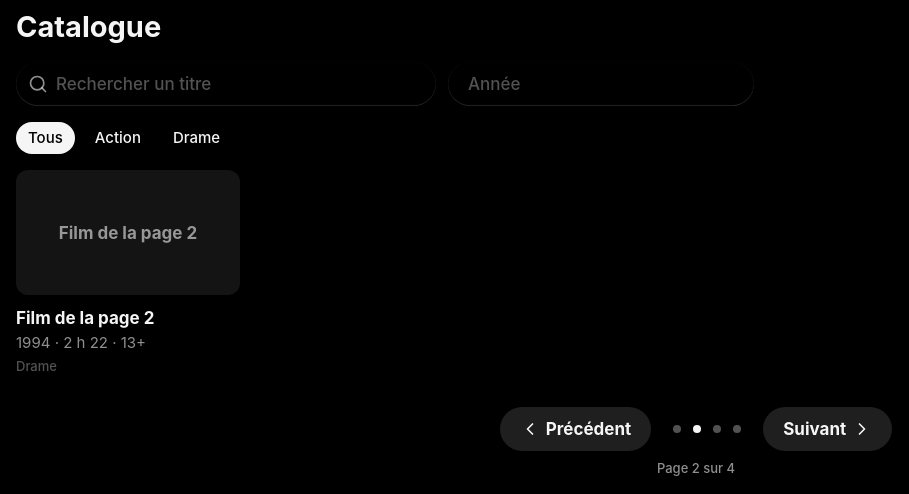
Test case: page du catalogue (spec 08) › passe à la page suivante puis revient à la précédente
Check: the text "Page 2 sur 4" is shown, box top-left (657, 459), bottom-right (735, 477)
Click the link "Suivant" at (828, 429), box top-left (763, 407), bottom-right (892, 451)
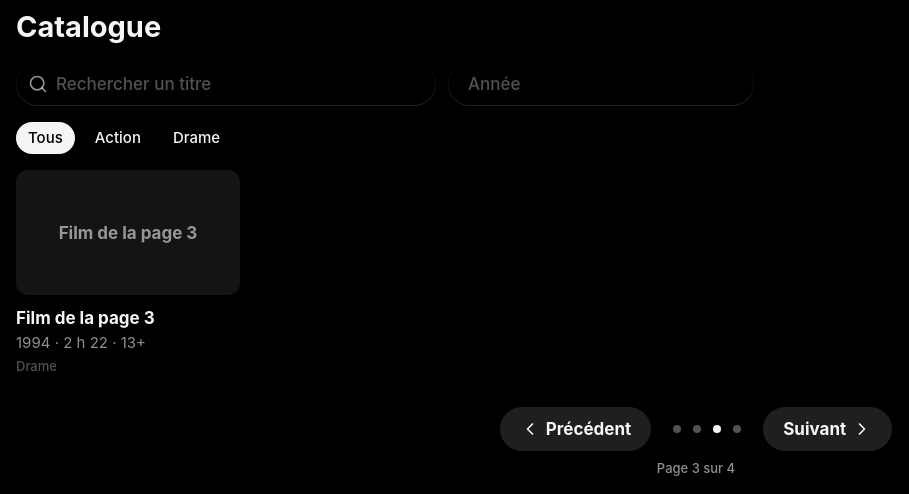
Check: the heading "Film de la page 3" is shown, box top-left (16, 308), bottom-right (155, 328)
Check: the text "Page 3 sur 4" is shown, box top-left (657, 459), bottom-right (735, 477)
Click the link "Précédent" at (576, 429), box top-left (500, 407), bottom-right (651, 451)
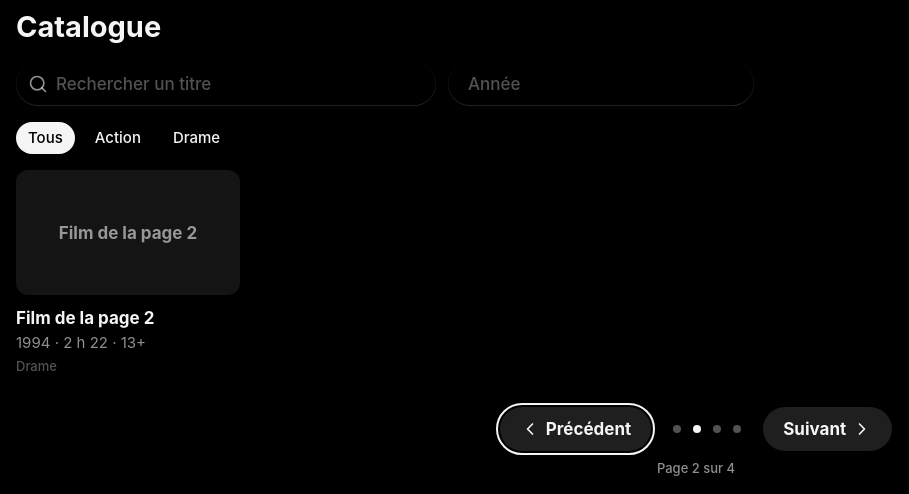
Check: the heading "Film de la page 2" is shown, box top-left (16, 308), bottom-right (154, 328)
Check: the text "Page 2 sur 4" is shown, box top-left (657, 459), bottom-right (735, 477)
